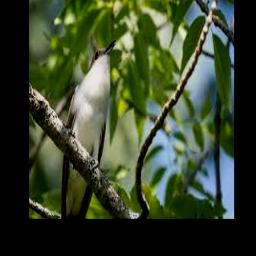Cuckoo: (62, 39, 117, 219)
